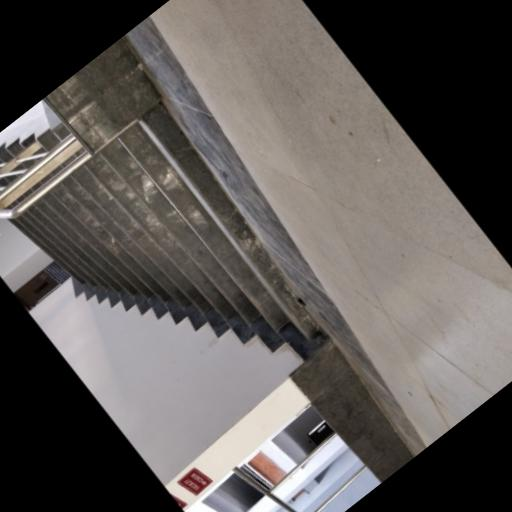stairs: (11, 102, 318, 349)
